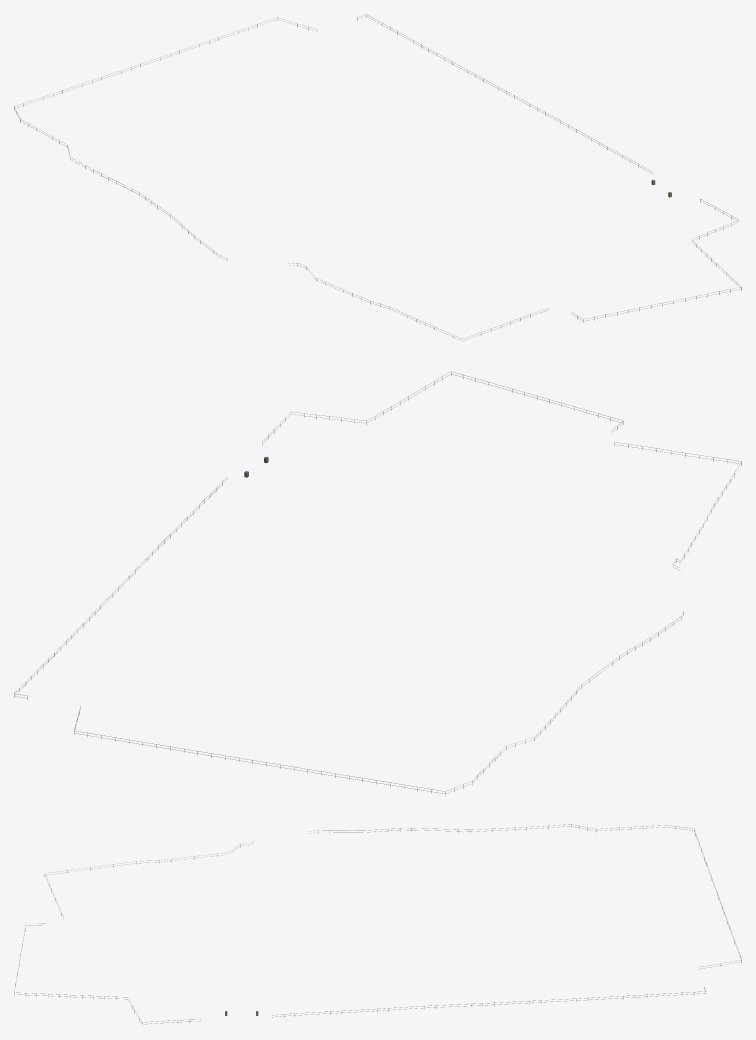
3 renders of one model, top to bottom at view 1: azimuth 30°, elevation 25°; view 2: azimuth 150°, elevation 25°; view 3: azimuth 270°, elevation 25°, orthographic. The views are drawn at different scales.
Visible parts, largest first — view 1: school-open-boundary-rail; view 2: school-open-boundary-rail; view 3: school-open-boundary-rail.
Boxes of the visible parts, bbox=[...] form: school-open-boundary-rail: bbox=[14, 14, 741, 341]; school-open-boundary-rail: bbox=[14, 371, 741, 795]; school-open-boundary-rail: bbox=[14, 824, 741, 1025].
Bounding box in the file's own units: 121 × 2.95 × 188.
2 materials, 1 textured.
